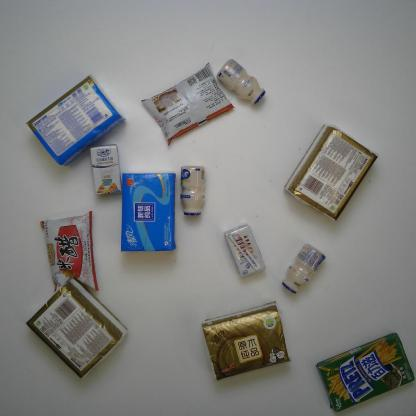Dessert: (315, 331, 415, 412)
Milk: (216, 58, 266, 106), (281, 244, 325, 294), (225, 223, 265, 276), (89, 143, 123, 196), (180, 165, 206, 216)
Seasoner: (141, 62, 235, 145), (41, 211, 100, 294)
Tissue: (26, 278, 128, 377), (24, 75, 126, 167), (284, 124, 378, 222), (202, 301, 290, 379), (120, 172, 176, 252)
